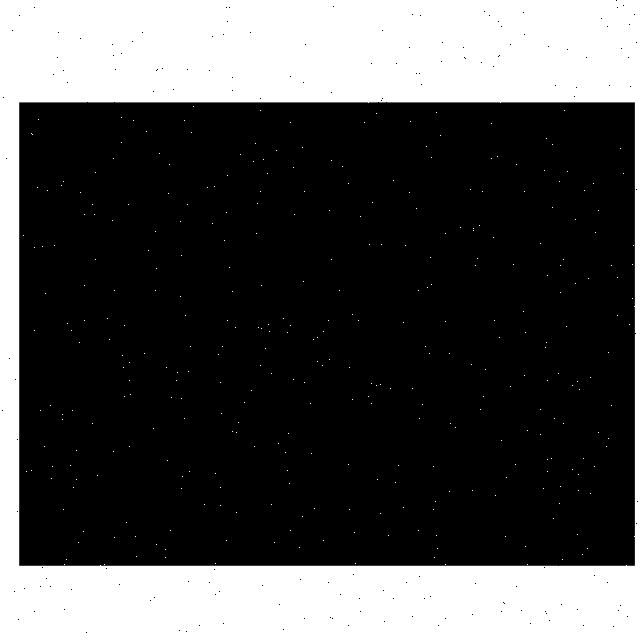Sajjyun: (19, 104, 635, 567)
